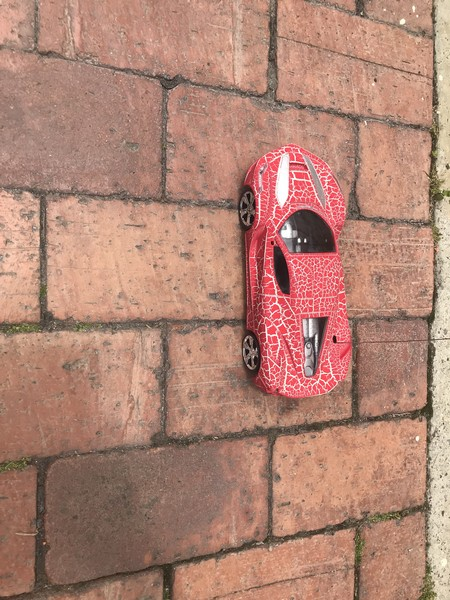RC: (235, 144, 353, 399)
